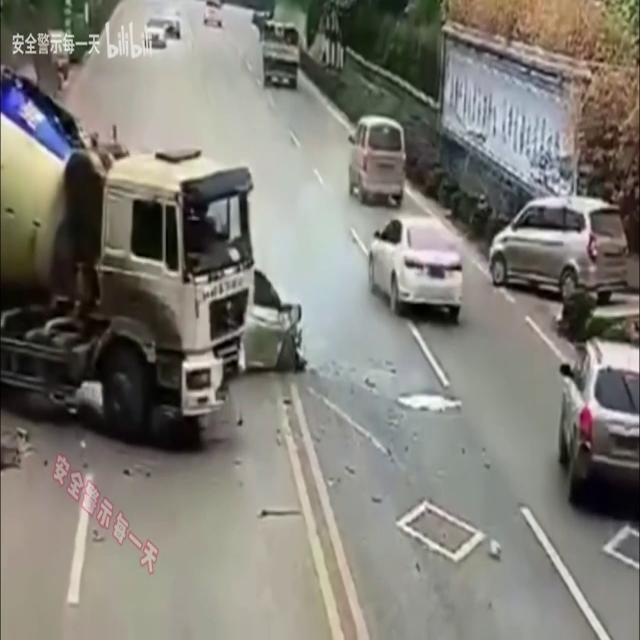accident: (0, 61, 310, 456)
non-accident: (346, 112, 466, 330), (141, 8, 183, 49)
